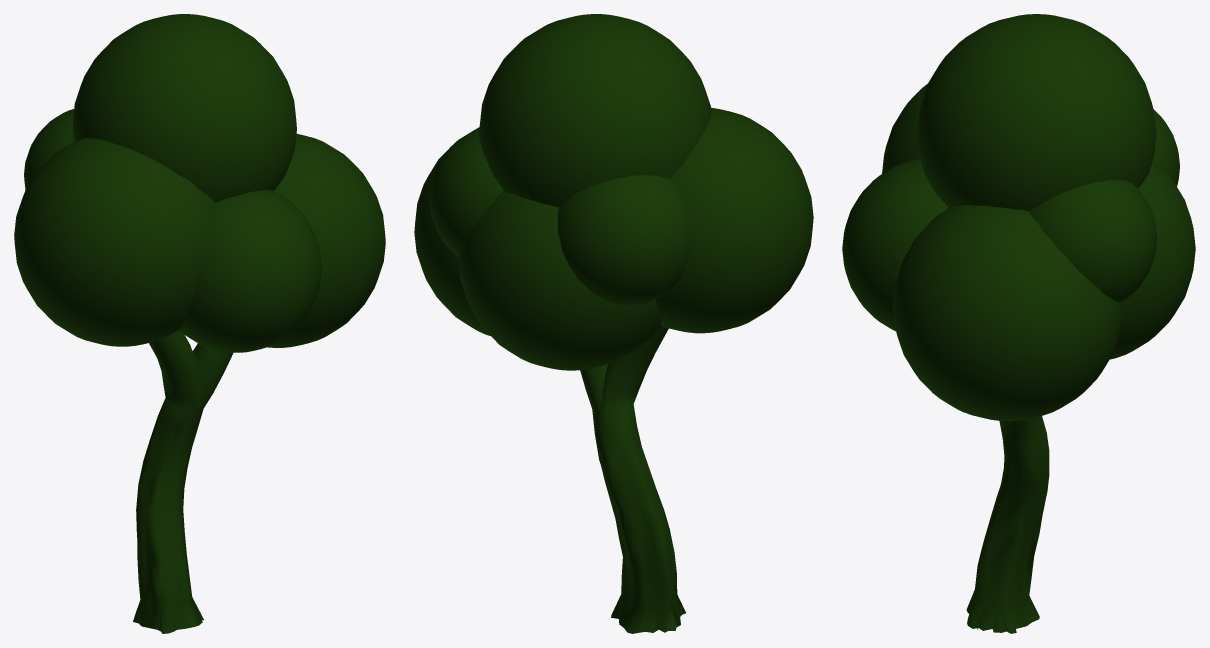
The model's file is tree_a.dae.
3 renders of one model, left to right at view 1: azimuth 30°, elevation 25°; view 2: azimuth 150°, elevation 25°; view 3: azimuth 270°, elevation 25°, orthographic. The views are drawn at different scales.
Visible parts, largest first — view 1: tree.001; view 2: tree.001; view 3: tree.001.
Boxes of the visible parts, x1,y1,x2,y2 form: tree.001: (14,14,385,633); tree.001: (414,14,813,633); tree.001: (842,14,1195,633).
Bounding box in the file's own units: 8.98 × 7.41 × 14.11.
